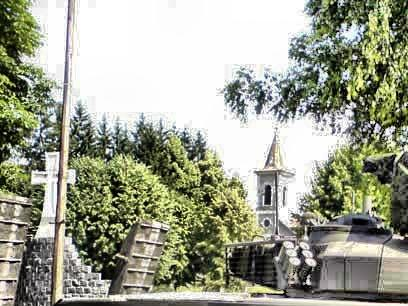tanks: (58, 150, 408, 306)
